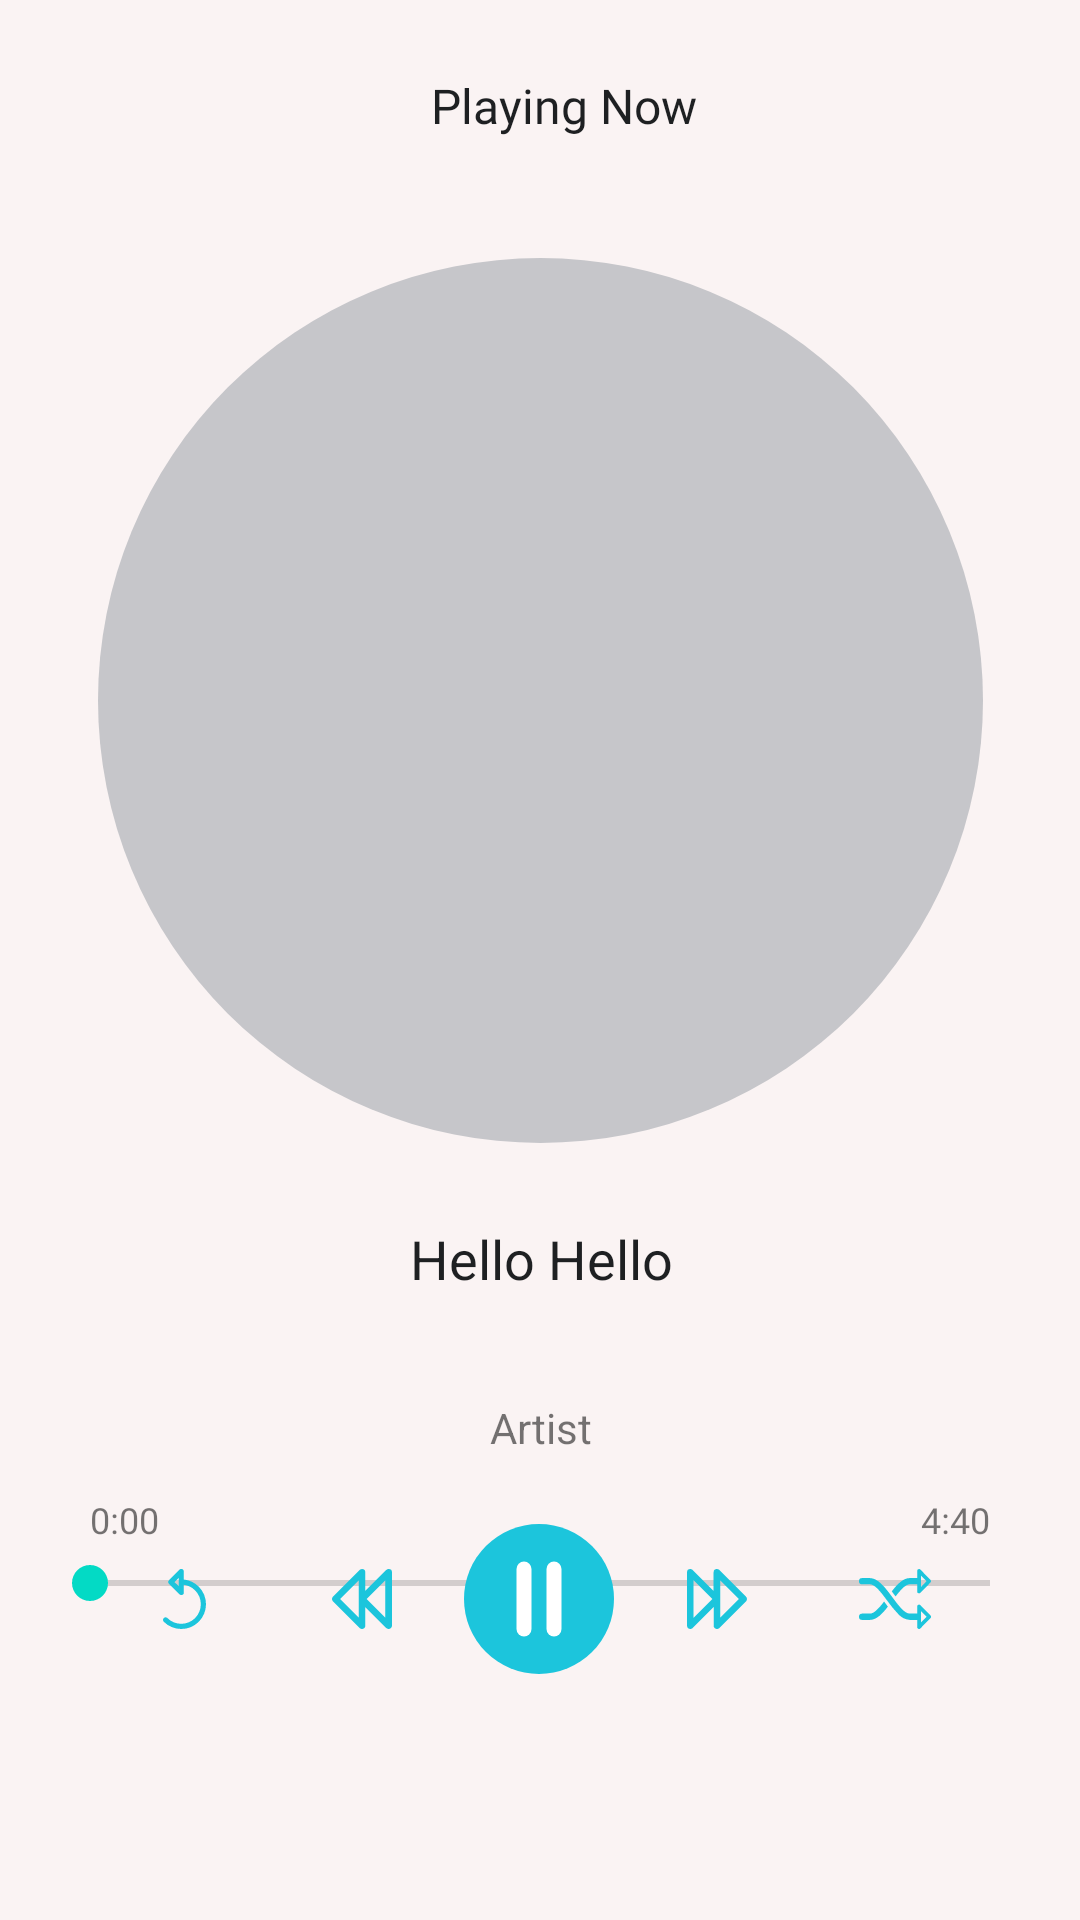

Screen size 1080 × 1920. Icon name, then its center in pixels as [x,y]:
pause: [539,1599]
